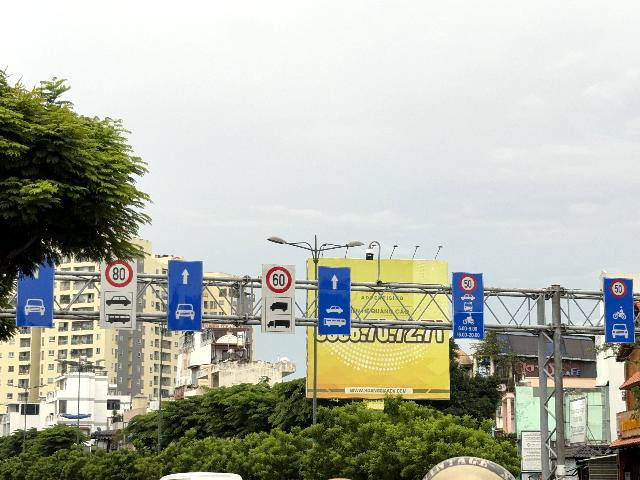toc-do-toi-da-cho-phep: (104, 260, 133, 287), (265, 266, 292, 293), (609, 279, 627, 299), (458, 275, 477, 293)
